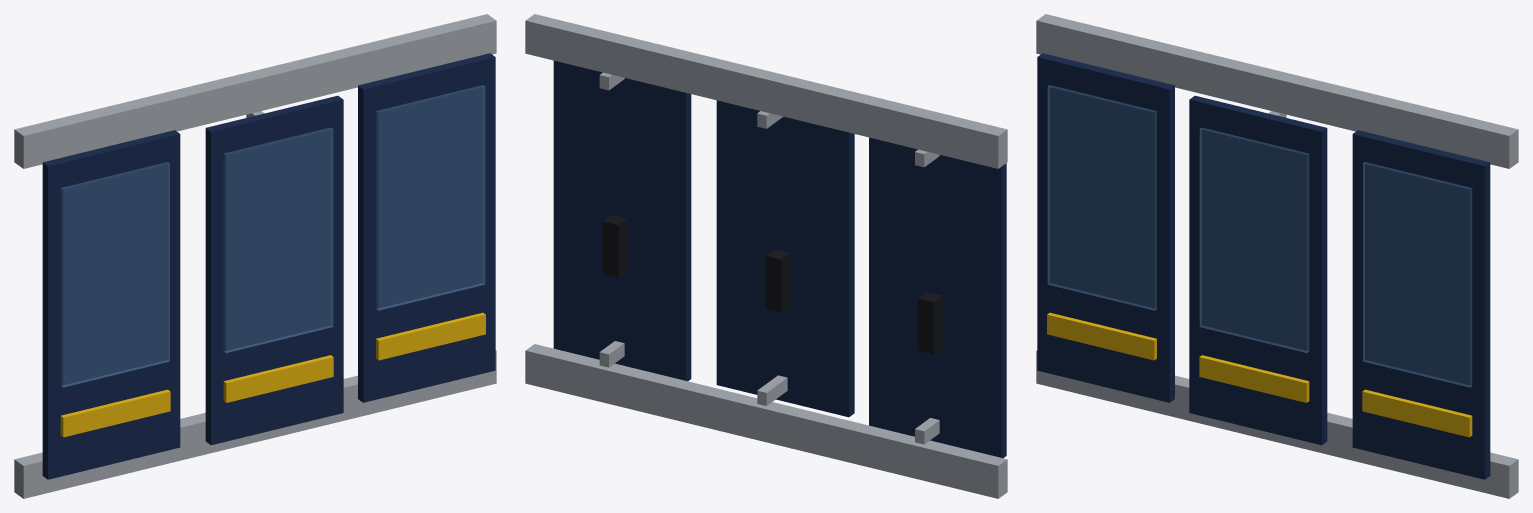
File: weaponrack_riot_shield_rack.glb
3 renders of one model, left to right at view 1: azimuth 30°, elevation 25°; view 2: azimuth 150°, elevation 25°; view 3: azimuth 330°, elevation 25°, orthographic.
Visible parts, largest first — view 1: weaponrack_riot_shield_rack; view 2: weaponrack_riot_shield_rack; view 3: weaponrack_riot_shield_rack.
Part boxes in pixels (x1,y1,x2,y2): weaponrack_riot_shield_rack: (14,14,496,498); weaponrack_riot_shield_rack: (525,14,1007,498); weaponrack_riot_shield_rack: (1036,14,1518,498).
Bounding box in the file's own units: 1.5 × 1.1 × 0.16.
